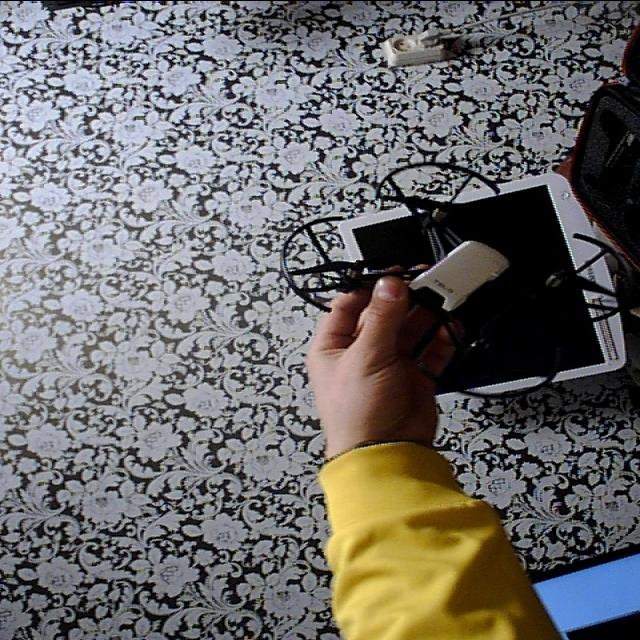drone: (274, 151, 640, 401)
